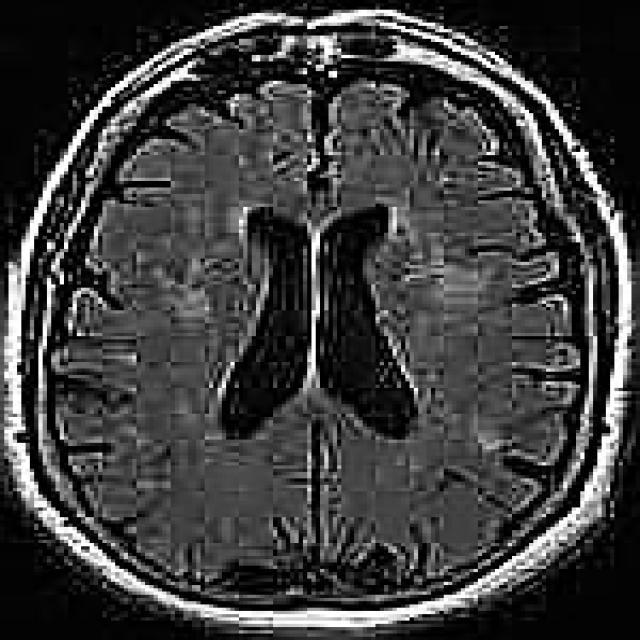notumor: (4, 0, 627, 630)
